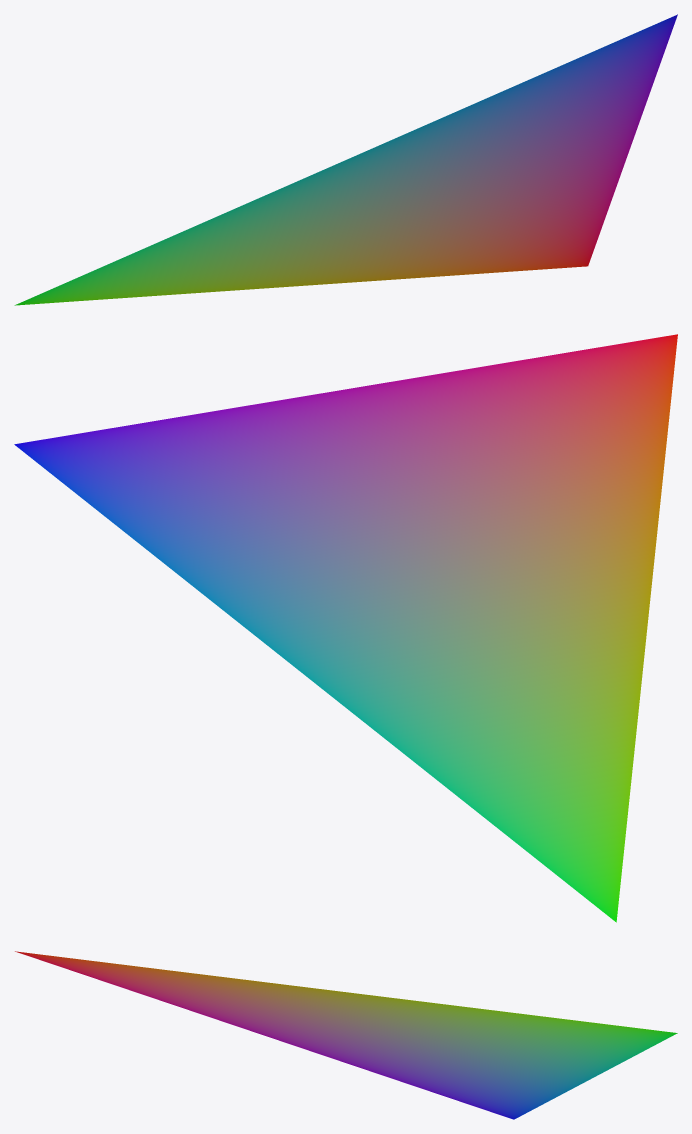
The model's file is face_cleaning_conquest_103.obj.
3 renders of one model, top to bottom at view 1: azimuth 30°, elevation 25°; view 2: azimuth 150°, elevation 25°; view 3: azimuth 270°, elevation 25°, orthographic. The views are drawn at different scales.
Size of the model in its own units: 0.573 by 0.191 by 0.5296.
